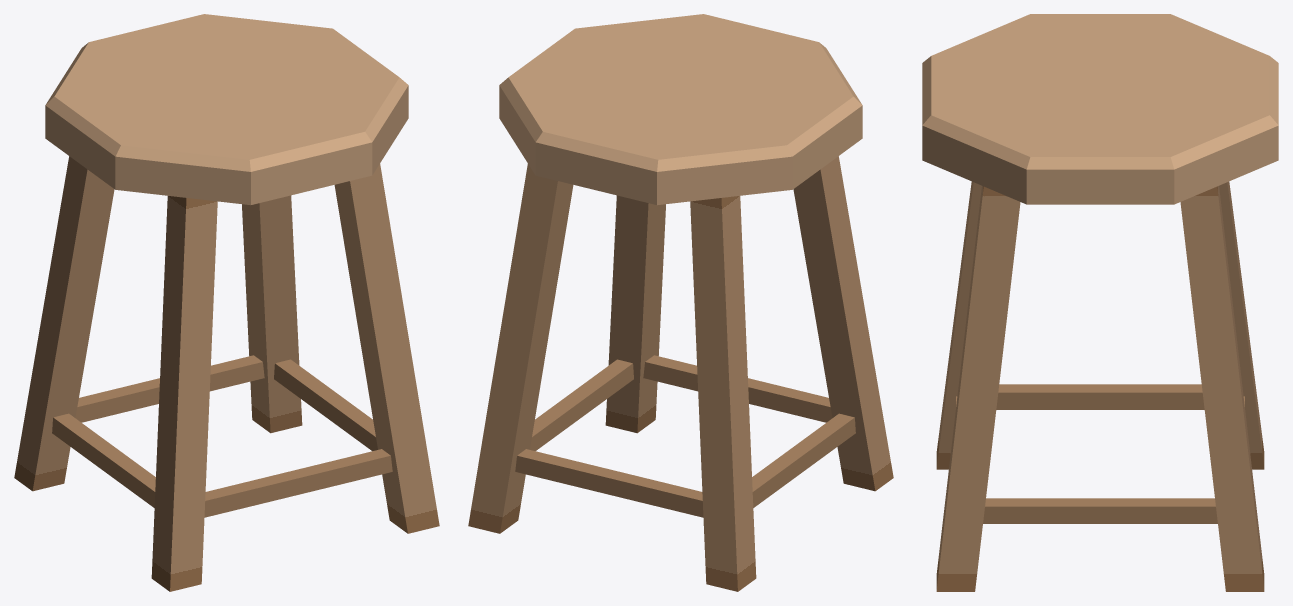
The model's file is stool.glb.
3 renders of one model, left to right at view 1: azimuth 30°, elevation 25°; view 2: azimuth 150°, elevation 25°; view 3: azimuth 270°, elevation 25°, orthographic. The views are drawn at different scales.
Visible parts, largest first — view 1: Cube; view 2: Cube; view 3: Cube.
Boxes of the visible parts, <box> form: Cube: <box>14,14,439,591</box>; Cube: <box>468,14,893,591</box>; Cube: <box>922,14,1278,591</box>.
Size of the model in its own units: 0.3696 by 0.5 by 0.3696.
1 material, 1 textured.
